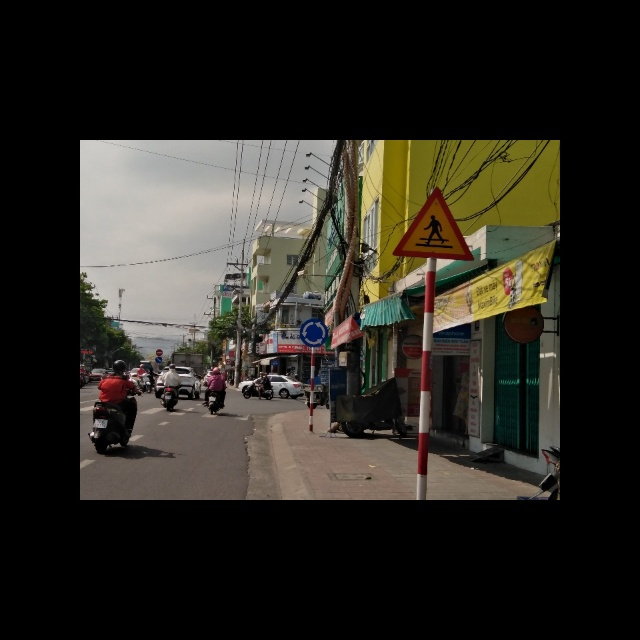Nơi giao nhau chạy theo vòng xuyến: (300, 319, 327, 346)
Đường người đi bộ sang đường: (388, 186, 475, 262)
